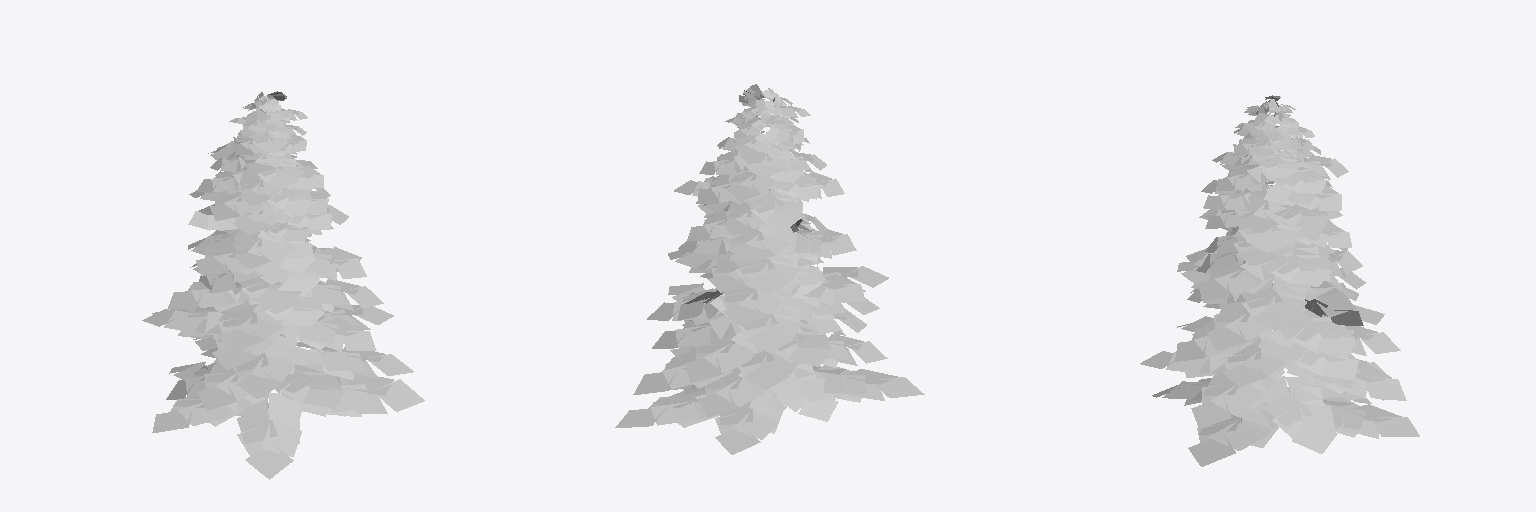
File: tree_foliage_lod0.obj
3 views of the same model, side by side, from view 1: azimuth 30°, elevation 25°; view 2: azimuth 150°, elevation 25°; view 3: azimuth 270°, elevation 25° (orthographic).
Bounding box in the file's own units: 5.46 × 6.58 × 5.12.